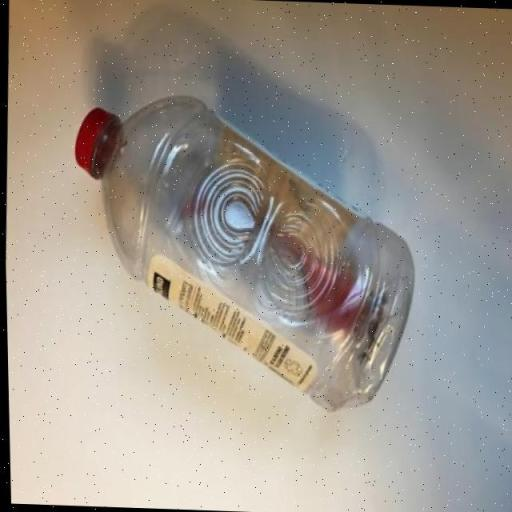plastic: (62, 88, 424, 418)
